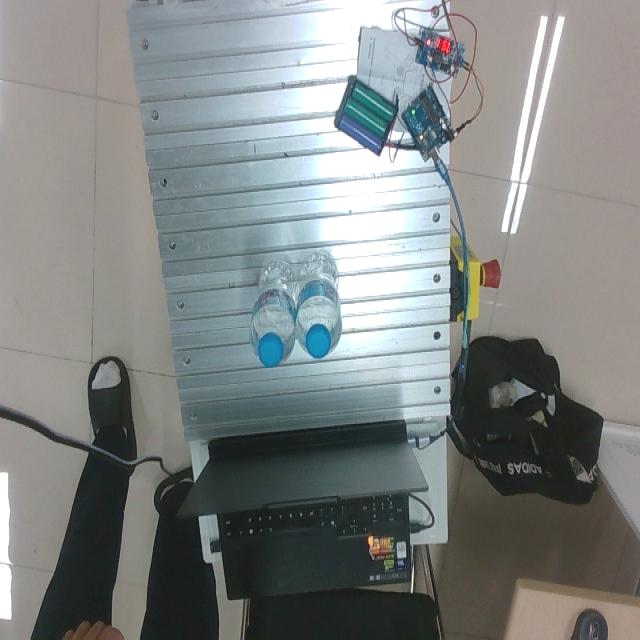lavie: (291, 252, 342, 361), (251, 260, 298, 367)
